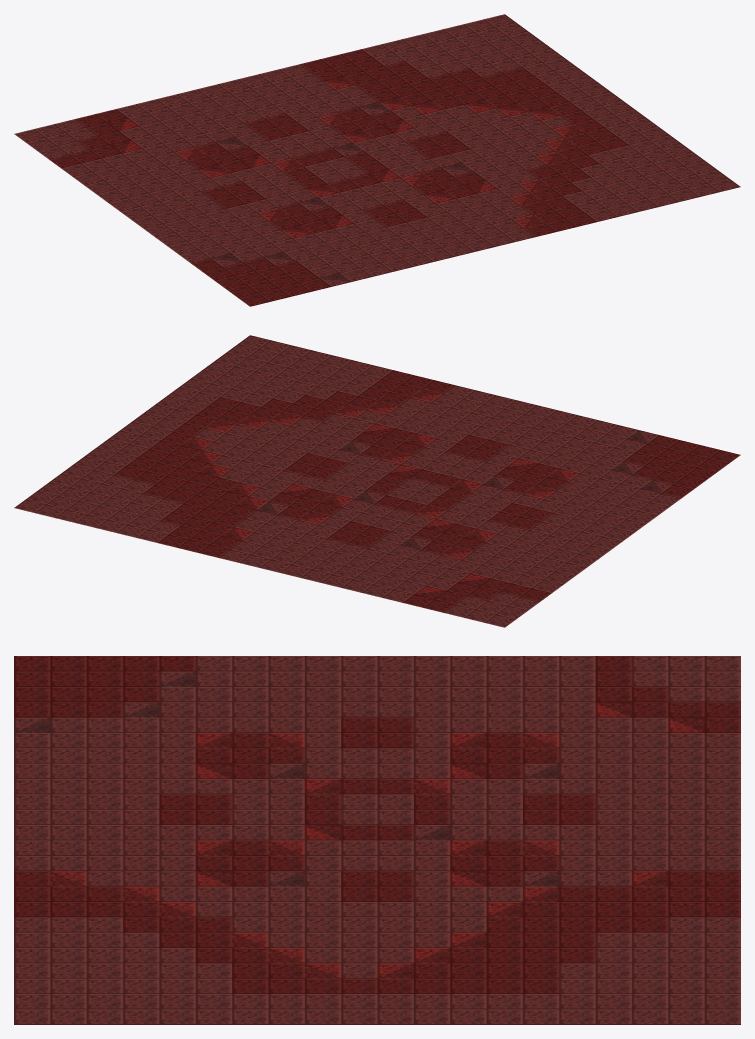
The model's file is FloorSide_5.obj.
The picture shows the model from 3 angles, top to bottom: view 1: azimuth 30°, elevation 25°; view 2: azimuth 150°, elevation 25°; view 3: azimuth 270°, elevation 25°; orthographic projection. The views are drawn at different scales.
Parts seen in each view (by area): view 1: FloorSide_5; view 2: FloorSide_5; view 3: FloorSide_5.
Boxes of the visible parts, box(x1,y1,x2,y2) form: FloorSide_5: box(14, 14, 740, 306); FloorSide_5: box(14, 335, 740, 627); FloorSide_5: box(14, 656, 740, 1024).
Size of the model in its own units: 24 by 0 by 20.
